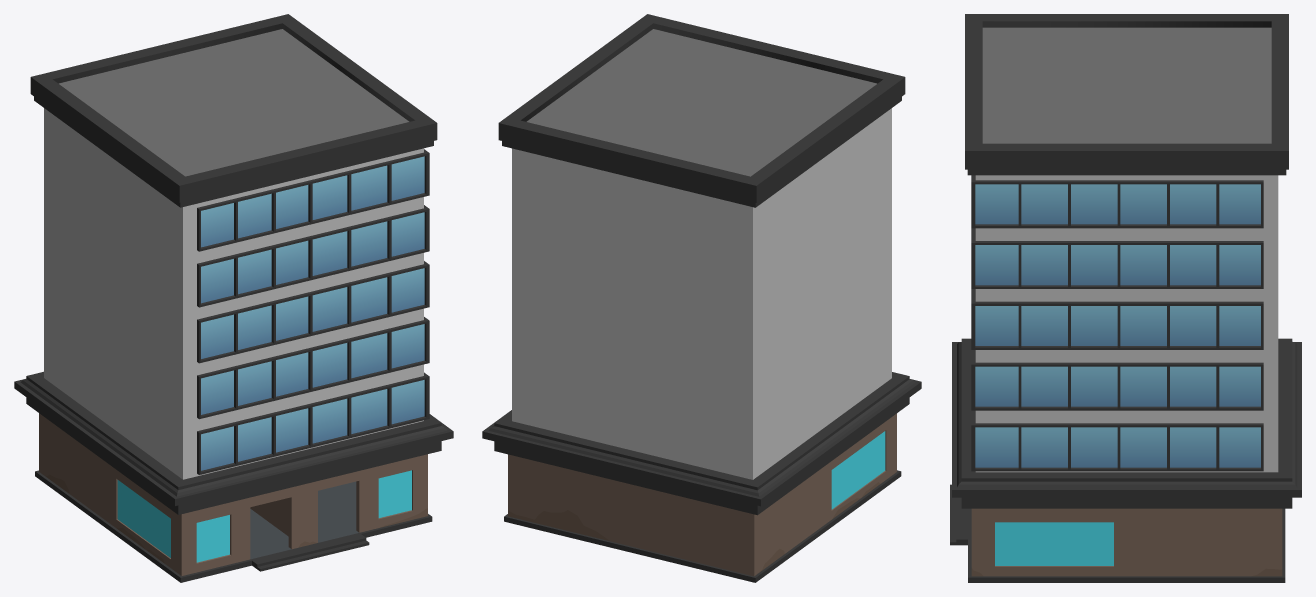
The model's file is SM_Buildings_Office_09.fbx.
3 views of the same model, side by side, from view 1: azimuth 30°, elevation 25°; view 2: azimuth 150°, elevation 25°; view 3: azimuth 270°, elevation 25° (orthographic). The views are drawn at different scales.
Parts seen in each view (by area): view 1: SM_Buildings_Office_09; view 2: SM_Buildings_Office_09; view 3: SM_Buildings_Office_09.
Boxes of the visible parts, x1,y1,x2,y2 form: SM_Buildings_Office_09: (14,14,453,582); SM_Buildings_Office_09: (482,14,921,582); SM_Buildings_Office_09: (950,14,1301,582).
Bounding box in the file's own units: 14.64 × 20.04 × 14.73.
